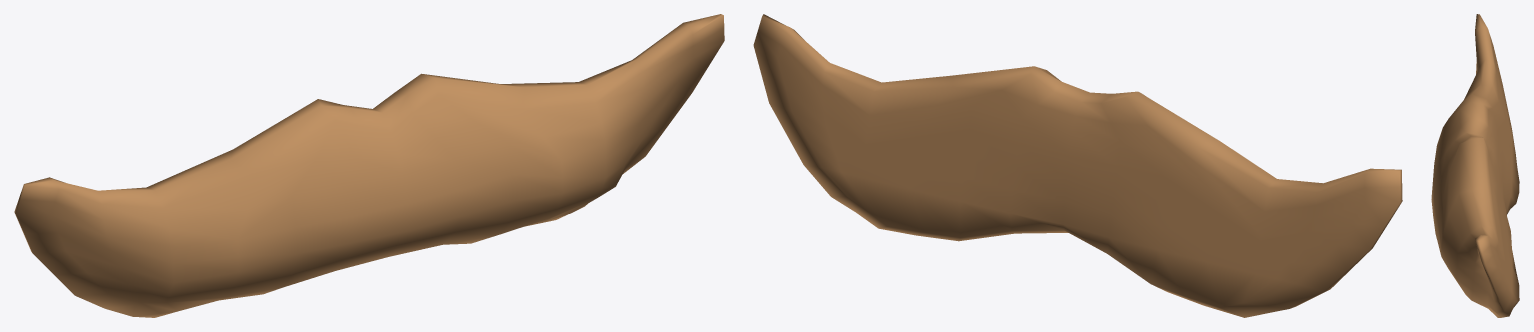
The model's file is Hat_Mustache.fbx.
The picture shows the model from 3 angles, left to right: view 1: azimuth 30°, elevation 25°; view 2: azimuth 150°, elevation 25°; view 3: azimuth 270°, elevation 25°; orthographic projection. The views are drawn at different scales.
Parts seen in each view (by area): view 1: Mustache; view 2: Mustache; view 3: Mustache.
Part boxes in pixels (x1=…): Mustache: x1=14, y1=14, x2=724, y2=317; Mustache: x1=753, y1=14, x2=1402, y2=317; Mustache: x1=1431, y1=14, x2=1519, y2=317.
Bounding box in the file's own units: 203 × 52.96 × 32.5.
